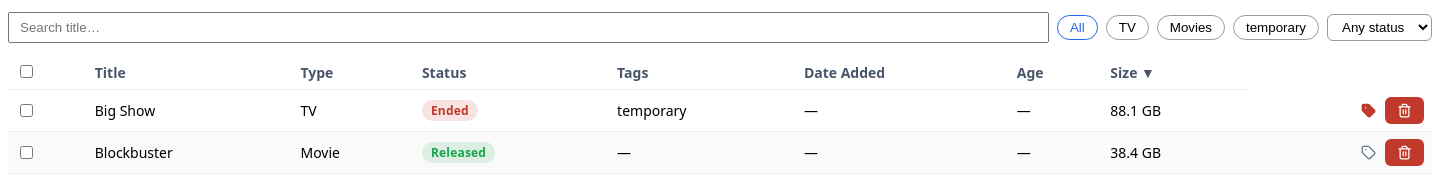
Scenario: LibraryTable › filters to temporary when the chip is clicked
The width and height of the screenshot is (1440, 191).
Click the button "temporary" at {"x": 1276, "y": 28}, box [1233,15,1319,40]
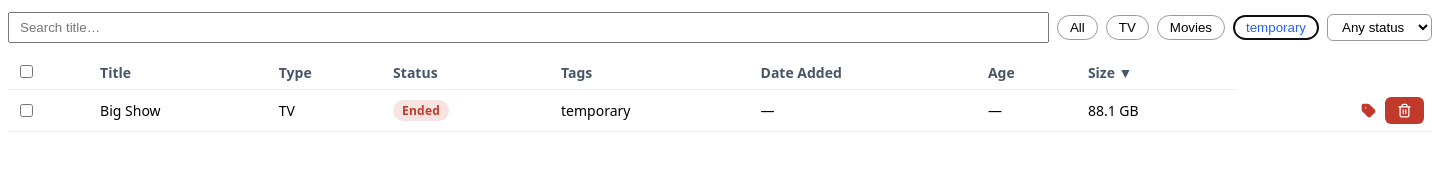
Expected: the text "Big Show" is shown, [92,90,271,132]
Expected: the text "Blockbuster" is gone
